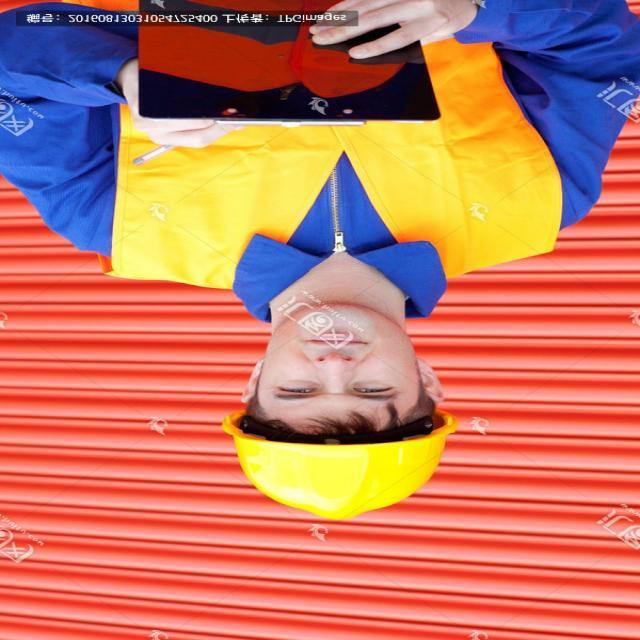safetyhelmet: (220, 295, 464, 526)
